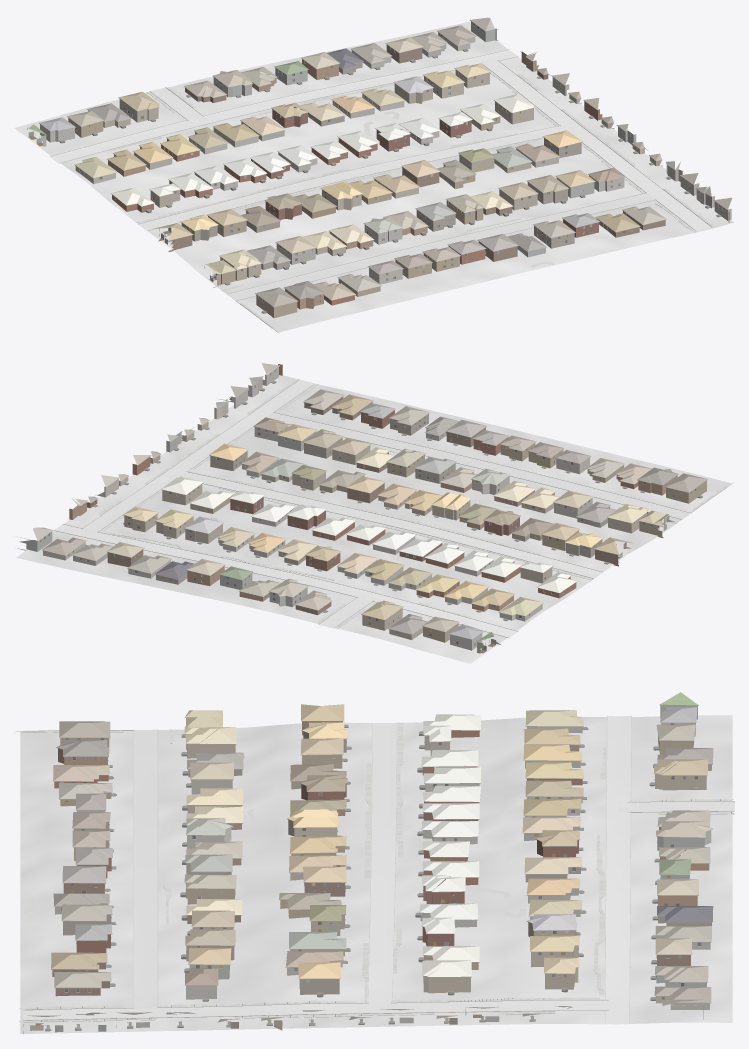
3 renders of one model, top to bottom at view 1: azimuth 30°, elevation 25°; view 2: azimuth 150°, elevation 25°; view 3: azimuth 270°, elevation 25°, orthographic. The views are drawn at different scales.
Parts seen in each view (by area): view 1: ground, roof, wall, concrete, detail, wall_stucco, wall_stone, curb, walk, glass; view 2: ground, roof, wall, concrete, detail, wall_stucco, curb, walk, wall_stone, glass; view 3: ground, roof, concrete, wall, detail, walk, curb, wall_stucco, wall_stone, glass.
Part boxes in pixels (left/top/right/bottom): ground: left=14, top=21, right=734, bottom=332; roof: left=28, top=17, right=732, bottom=306; wall: left=68, top=45, right=729, bottom=318; concrete: left=50, top=50, right=711, bottom=300; detail: left=27, top=20, right=727, bottom=313; wall_stucco: left=40, top=21, right=683, bottom=284; wall_stone: left=40, top=50, right=731, bottom=244; curb: left=50, top=49, right=711, bottom=332; walk: left=110, top=66, right=715, bottom=331; glass: left=43, top=23, right=719, bottom=302; ground: left=16, top=375, right=731, bottom=663; roof: left=33, top=363, right=707, bottom=641; wall: left=69, top=364, right=706, bottom=642; concrete: left=54, top=380, right=690, bottom=637; detail: left=20, top=366, right=707, bottom=646; wall_stucco: left=17, top=399, right=592, bottom=653; curb: left=54, top=380, right=733, bottom=637; walk: left=97, top=378, right=731, bottom=628; wall_stone: left=128, top=367, right=542, bottom=650; glass: left=39, top=373, right=696, bottom=645; ground: left=20, top=715, right=732, bottom=1033; roof: left=27, top=692, right=713, bottom=1022; concrete: left=23, top=716, right=734, bottom=1024; wall: left=23, top=721, right=711, bottom=1033; detail: left=30, top=704, right=712, bottom=1031; walk: left=19, top=722, right=733, bottom=1022; curb: left=14, top=715, right=734, bottom=1023; wall_stucco: left=55, top=705, right=711, bottom=1019; wall_stone: left=186, top=723, right=710, bottom=999; glass: left=61, top=723, right=701, bottom=991.
Bounding box in the file's own units: 260 × 16.87 × 253.
